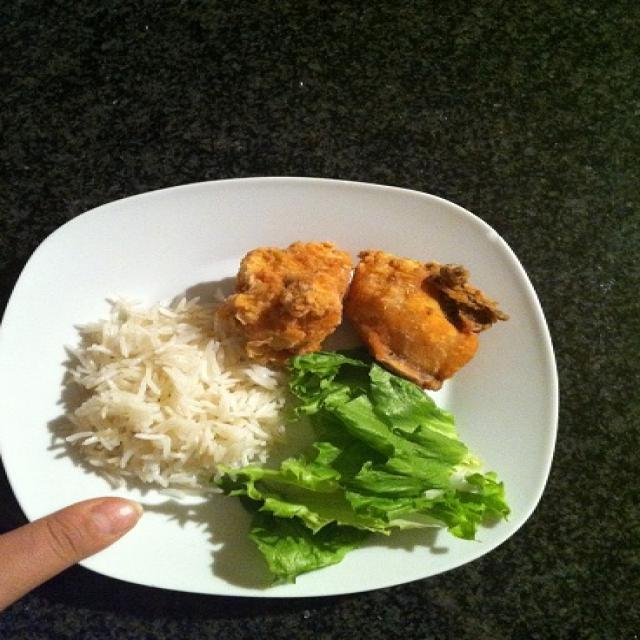greens: (268, 385, 492, 565)
rice: (42, 355, 264, 458)
samosa: (216, 233, 513, 358)
